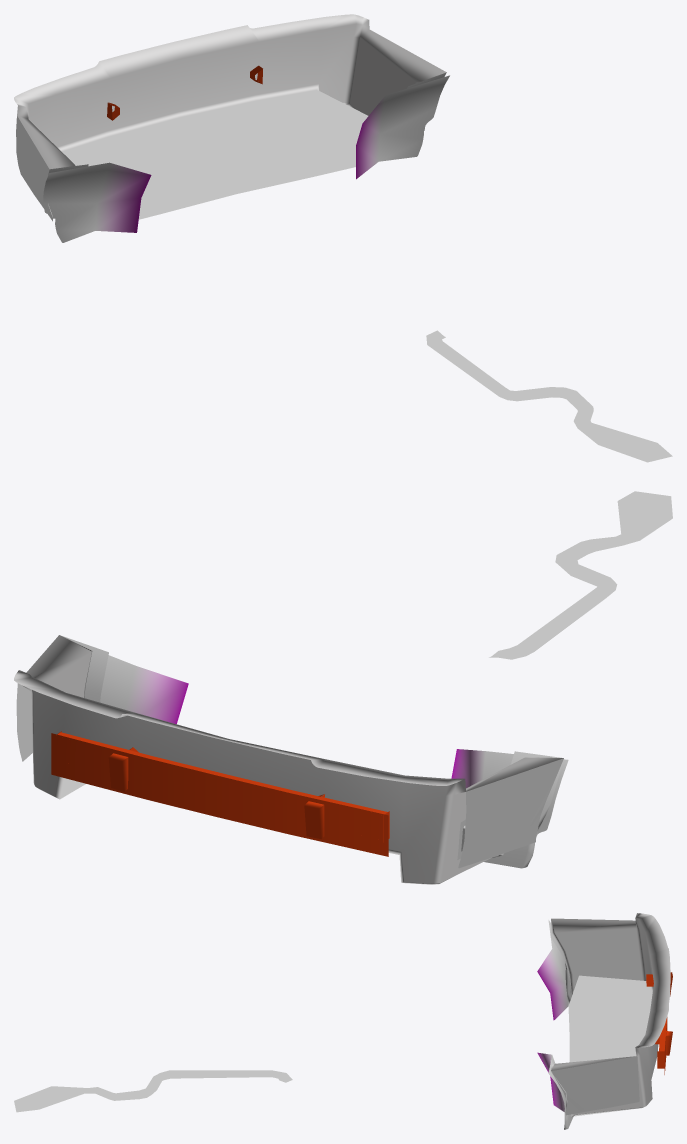
File: Car_Nissan_SkylineGTRVspecR34_1999_BumperChassisR_SetF.fbx
3 renders of one model, top to bottom at view 1: azimuth 30°, elevation 25°; view 2: azimuth 150°, elevation 25°; view 3: azimuth 270°, elevation 25°, orthographic. The views are drawn at different scales.
Visible parts, largest first — view 1: BumperChassisR 6; view 2: BumperChassisR 6; view 3: BumperChassisR 6.
Part boxes in pixels (box(x1,y1,x2,y2)): BumperChassisR 6: box(14, 14, 672, 462); BumperChassisR 6: box(14, 491, 672, 884); BumperChassisR 6: box(14, 913, 672, 1129).
Size of the model in its own units: 1.87 by 0.5825 by 3.38.
